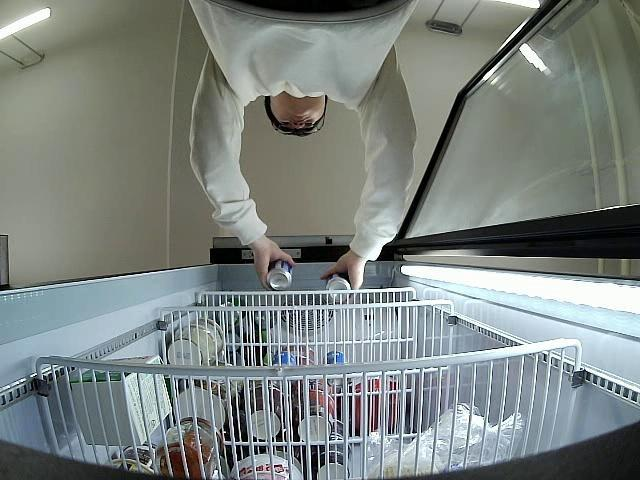13_pocariSweat: (265, 258, 294, 292), (326, 273, 350, 304)
